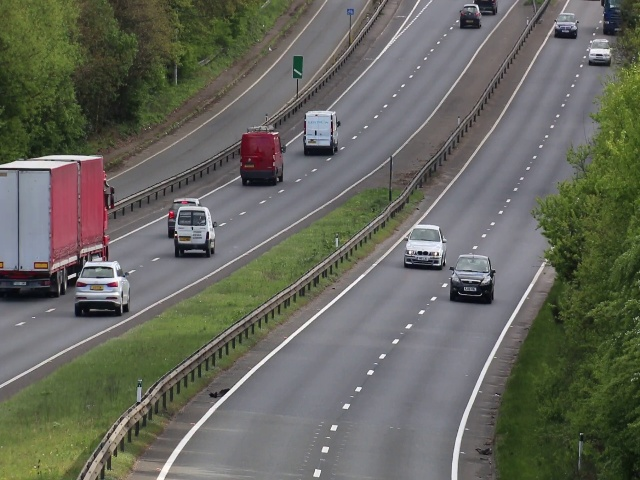car: (1, 155, 113, 298), (80, 261, 132, 315), (240, 128, 285, 186), (451, 254, 492, 304), (404, 222, 447, 268), (175, 209, 215, 257), (302, 107, 341, 156), (588, 35, 611, 66), (460, 2, 483, 30), (553, 13, 576, 39)
